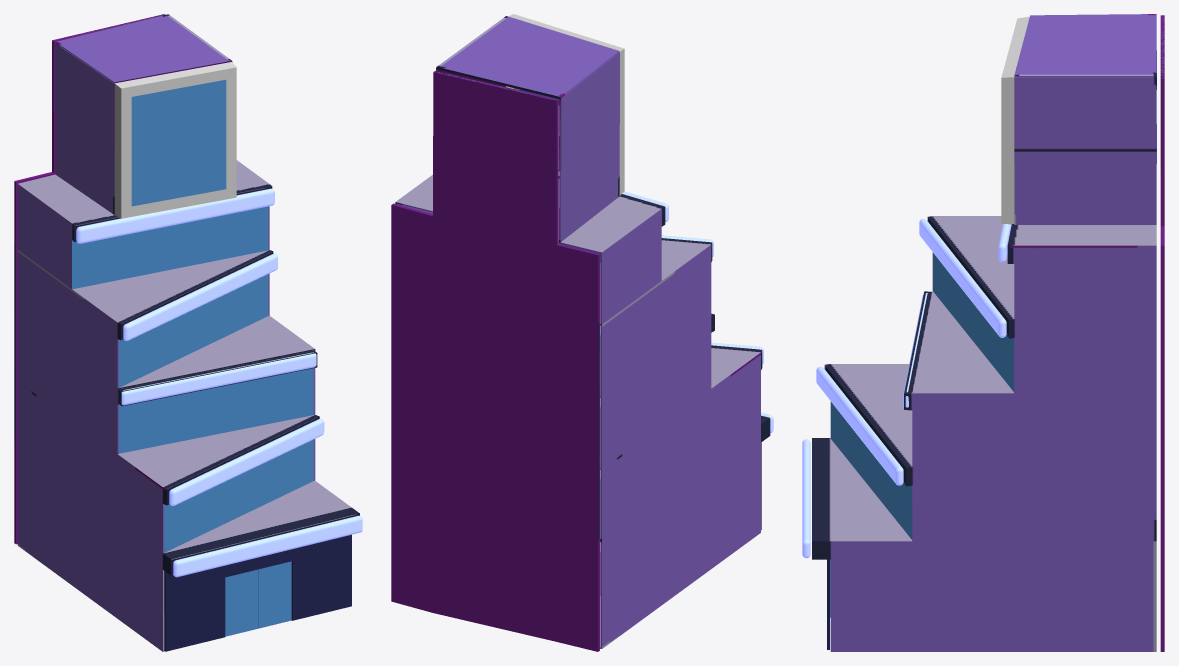
File: building2.fbx
3 renders of one model, left to right at view 1: azimuth 30°, elevation 25°; view 2: azimuth 150°, elevation 25°; view 3: azimuth 270°, elevation 25°, orthographic. The views are drawn at different scales.
Parts seen in each view (by area): view 1: Cube.002, Cube.001, FrontLevel1, Cube.004, Cube.005, Cube.006, Cube.003, Cube, Cube.007, Cube.008, Plane, FrontDoor1 (+1 smaller); view 2: Plane, Cube.002, Cube.006, Cube.001; view 3: Cube.002, Cube.001, Cube.003, Cube, Plane, Cube.006.
Part boxes in pixels (x1=…): Cube.002: x1=17, y1=14, x2=359, y2=651; Cube.001: x1=76, y1=188, x2=362, y2=577; FrontLevel1: x1=164, y1=534, x2=351, y2=651; Cube.004: x1=119, y1=368, x2=313, y2=453; Cube.005: x1=72, y1=206, x2=268, y2=289; Cube.006: x1=114, y1=62, x2=236, y2=218; Cube.003: x1=119, y1=274, x2=268, y2=387; Cube: x1=164, y1=439, x2=313, y2=552; Cube.007: x1=131, y1=79, x2=226, y2=151; Cube.008: x1=131, y1=134, x2=226, y2=206; Plane: x1=14, y1=14, x2=165, y2=544; FrontDoor1: x1=225, y1=569, x2=258, y2=636; Plane: x1=391, y1=71, x2=599, y2=651; Cube.002: x1=395, y1=16, x2=770, y2=648; Cube.006: x1=507, y1=14, x2=624, y2=195; Cube.001: x1=622, y1=191, x2=773, y2=433; Cube.002: x1=812, y1=14, x2=1156, y2=651; Cube.001: x1=802, y1=218, x2=1011, y2=558; Cube.003: x1=932, y1=252, x2=1013, y2=391; Cube: x1=830, y1=401, x2=912, y2=539; Plane: x1=1160, y1=15, x2=1164, y2=651; Cube.006: x1=1001, y1=16, x2=1029, y2=224.
Size of the model in its own units: 1222 by 3015 by 1779.
